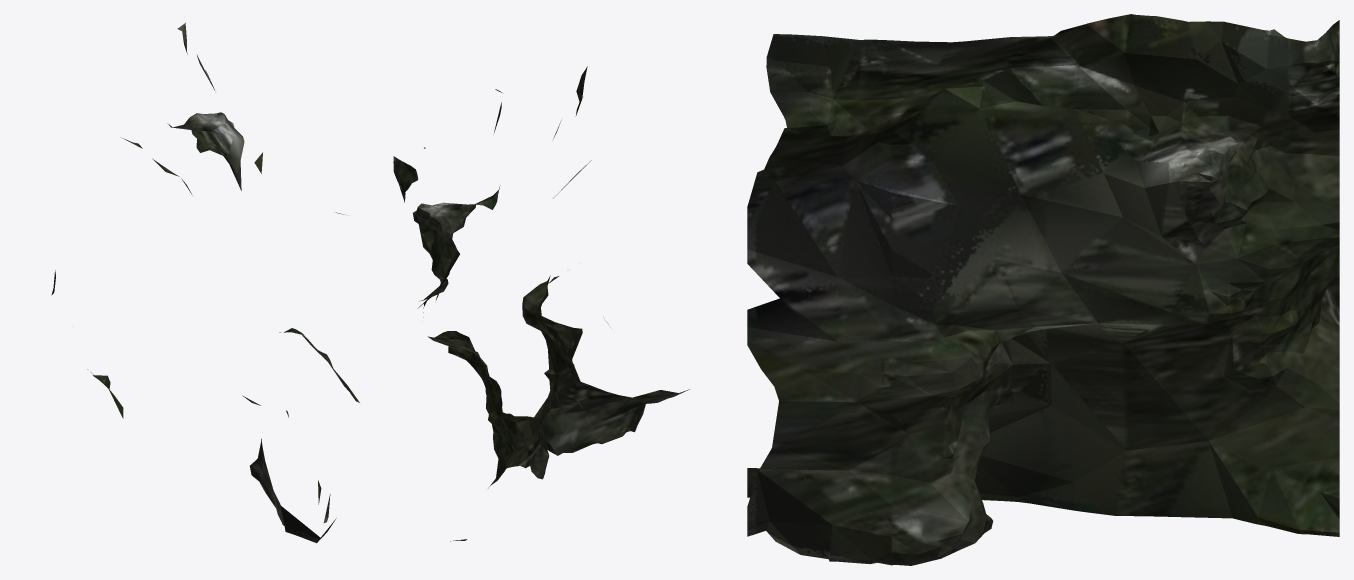
3 views of the same model, side by side, from view 1: azimuth 30°, elevation 25°; view 2: azimuth 150°, elevation 25°; view 3: azimuth 270°, elevation 25° (orthographic). The views are drawn at different scales.
Size of the model in its own units: 1.62 by 3.35 by 3.35.
3 materials, 3 textured.
